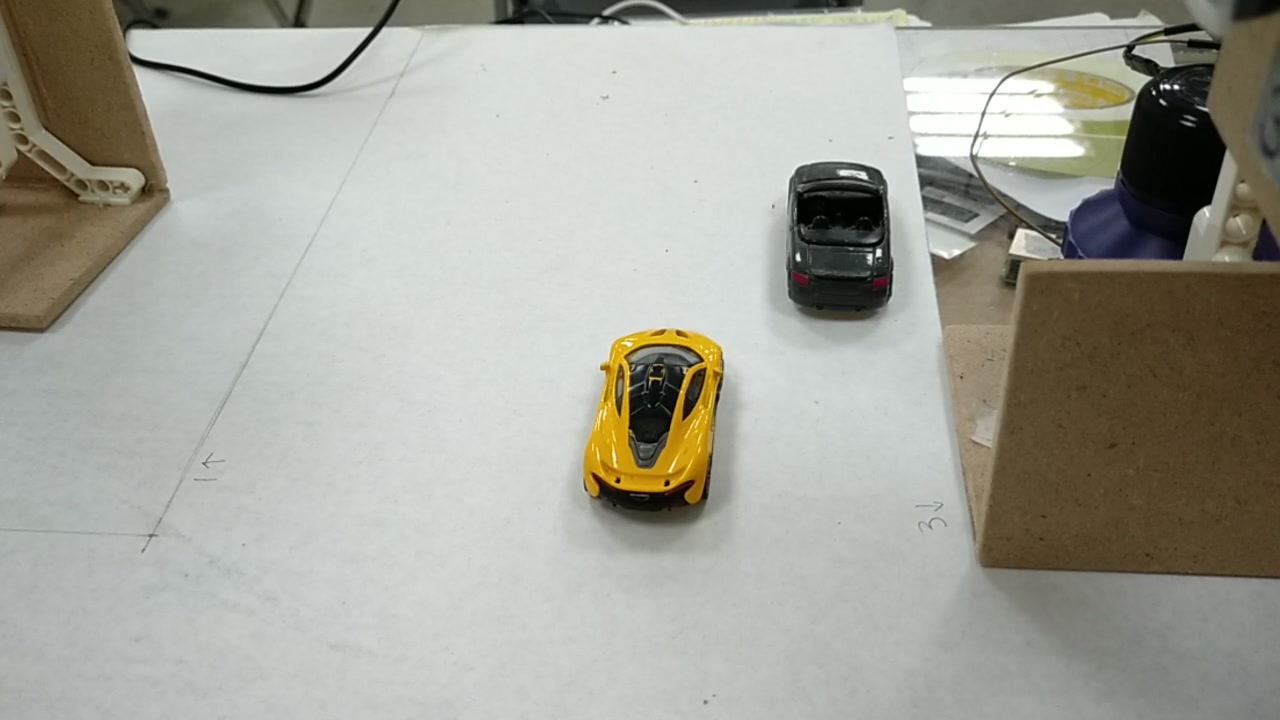car: (581, 329, 727, 492), (785, 166, 891, 297)
